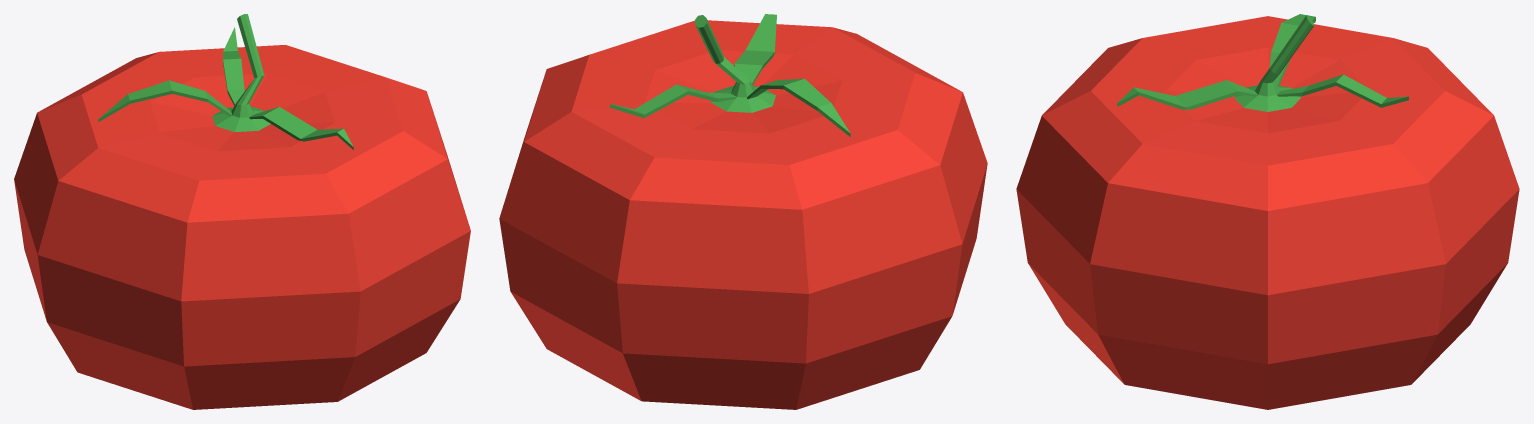
File: tomato.glb
3 renders of one model, left to right at view 1: azimuth 30°, elevation 25°; view 2: azimuth 150°, elevation 25°; view 3: azimuth 270°, elevation 25°, orthographic. The views are drawn at different scales.
Parts seen in each view (by area): view 1: Sphere; view 2: Sphere; view 3: Sphere.
Part boxes in pixels (x1,y1,x2,y2): Sphere: (14, 14, 470, 409); Sphere: (499, 14, 987, 409); Sphere: (1016, 14, 1519, 409).
Bounding box in the file's own units: 12.89 × 9.87 × 12.89.
